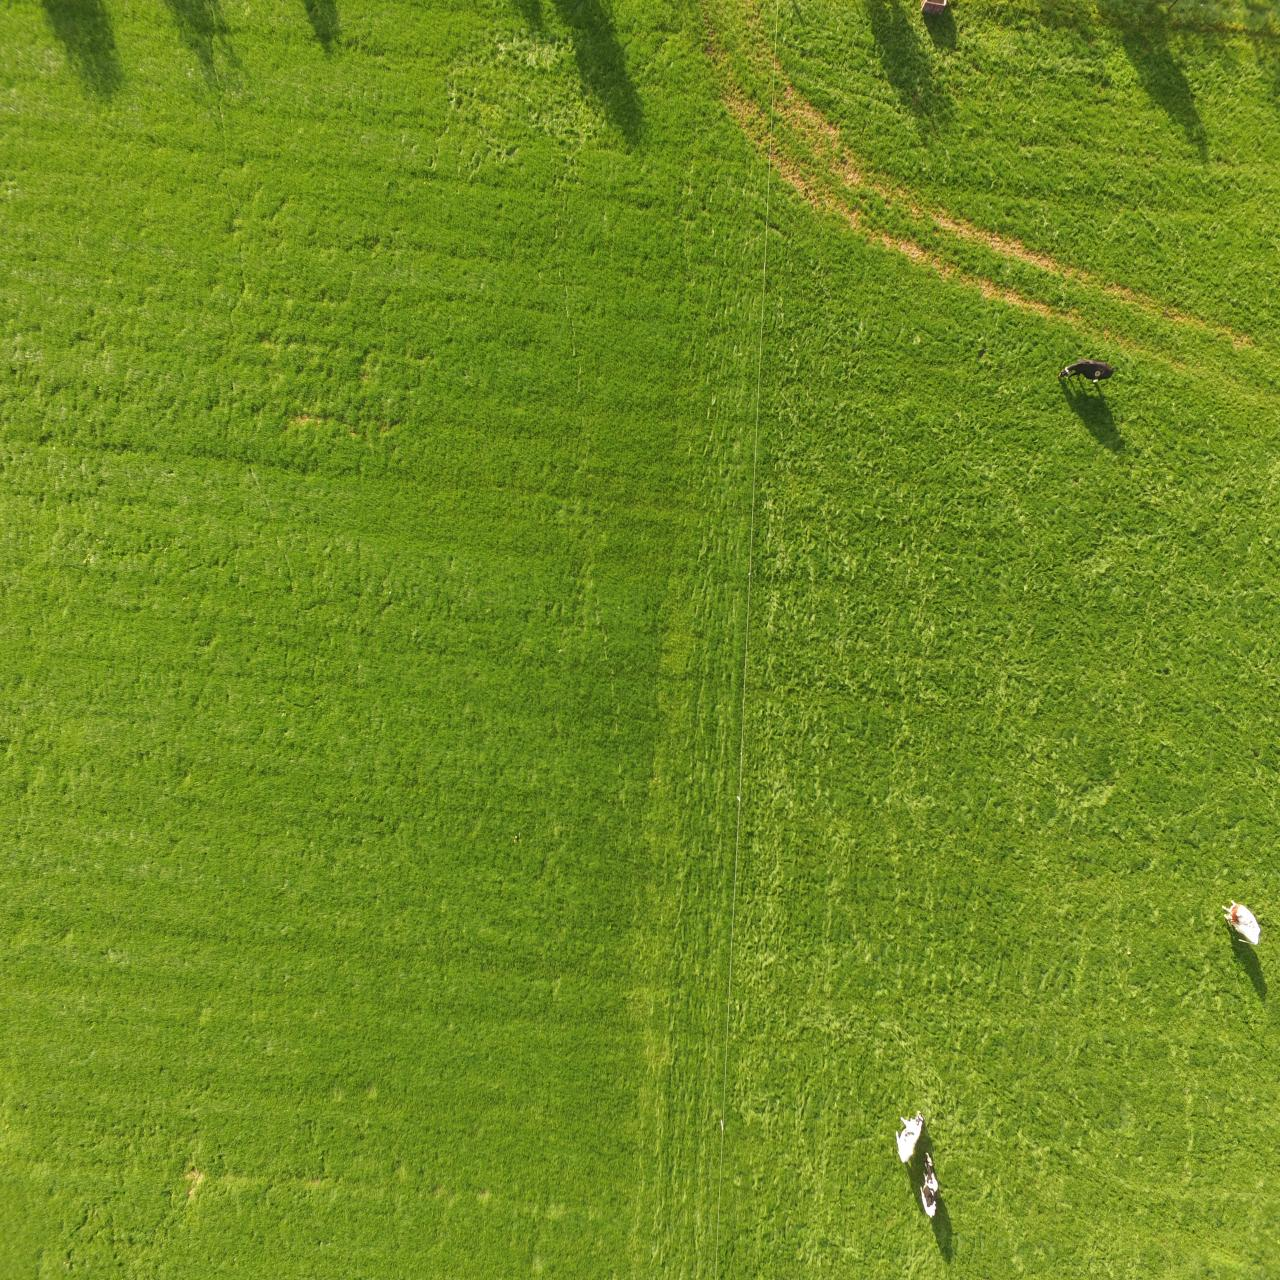cow: (1216, 890, 1265, 949), (893, 1107, 927, 1167), (915, 1146, 941, 1220), (1055, 355, 1117, 383)
